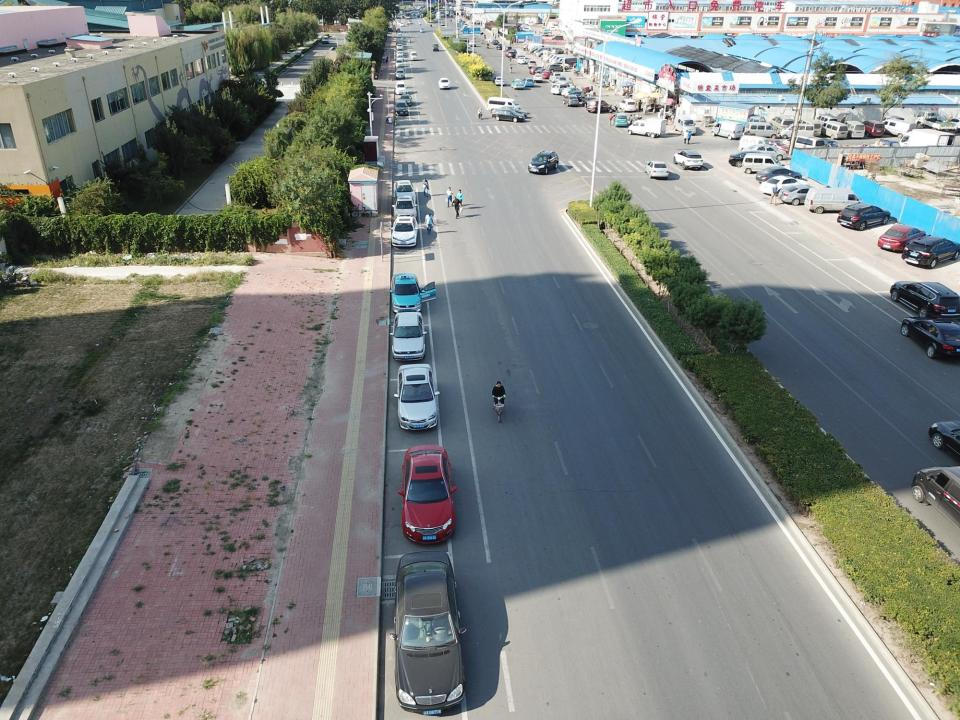car: (389, 550, 467, 716), (398, 444, 456, 544), (394, 364, 440, 430), (890, 281, 960, 319), (900, 316, 960, 358), (901, 234, 960, 268), (390, 272, 436, 314), (390, 312, 426, 360), (837, 202, 891, 231), (877, 224, 926, 252), (777, 185, 830, 205), (760, 176, 808, 197), (728, 150, 780, 168), (390, 216, 418, 246), (756, 168, 802, 184), (529, 150, 559, 174), (391, 195, 418, 221), (673, 150, 703, 169), (394, 180, 416, 204), (759, 138, 790, 154), (813, 139, 844, 153), (644, 160, 668, 178), (492, 109, 525, 122), (586, 100, 610, 112), (611, 112, 628, 127), (394, 100, 409, 116), (943, 117, 960, 131), (618, 99, 636, 112), (562, 95, 578, 106), (547, 62, 569, 70), (571, 90, 587, 101), (561, 87, 580, 96), (554, 75, 571, 85), (395, 81, 407, 95), (398, 94, 412, 106), (555, 81, 573, 90), (438, 78, 451, 90), (511, 78, 524, 90), (547, 64, 566, 72), (582, 97, 597, 107), (534, 47, 552, 55), (529, 66, 545, 74), (535, 50, 553, 57), (522, 77, 534, 87), (492, 76, 505, 85), (517, 56, 532, 63), (395, 68, 405, 78), (540, 70, 552, 78), (530, 48, 546, 54), (517, 24, 531, 30), (552, 47, 564, 54), (533, 74, 542, 82), (527, 61, 537, 68), (496, 44, 506, 50), (520, 27, 532, 32), (546, 26, 558, 31), (503, 44, 510, 52), (395, 60, 404, 66), (518, 26, 531, 30), (469, 40, 476, 47), (396, 56, 404, 62), (396, 51, 404, 57), (396, 48, 404, 54), (464, 46, 472, 52), (504, 46, 512, 52), (505, 51, 513, 57), (508, 52, 516, 58), (511, 22, 522, 26), (396, 44, 403, 50), (396, 42, 403, 48), (396, 38, 403, 44), (467, 50, 474, 56), (507, 49, 517, 53), (397, 39, 403, 45), (396, 36, 402, 42), (397, 33, 403, 39), (526, 22, 535, 26), (462, 37, 469, 42), (488, 37, 496, 41), (491, 40, 499, 44), (419, 27, 425, 32), (490, 38, 496, 43), (476, 30, 483, 34), (399, 22, 405, 26), (467, 24, 473, 28), (407, 20, 412, 24), (397, 22, 402, 26), (461, 21, 466, 25), (460, 27, 465, 31), (397, 18, 401, 22), (440, 22, 444, 26), (459, 19, 463, 23), (464, 24, 468, 27)
truck: (898, 129, 956, 156), (715, 102, 768, 131), (838, 139, 902, 160), (914, 110, 957, 132), (542, 29, 549, 36)
van: (911, 466, 960, 530), (804, 188, 867, 213), (782, 134, 826, 154), (741, 153, 782, 174), (627, 117, 667, 138), (738, 135, 777, 155), (881, 119, 916, 138), (711, 121, 743, 140), (487, 96, 522, 113), (744, 121, 777, 139), (779, 124, 815, 139), (819, 121, 848, 139), (796, 118, 821, 137), (673, 115, 696, 135), (859, 120, 885, 137), (770, 115, 794, 133), (842, 121, 865, 138), (880, 115, 905, 130), (834, 113, 858, 127), (815, 115, 838, 128), (550, 83, 572, 95), (573, 47, 591, 57), (549, 54, 567, 63), (556, 57, 575, 65), (559, 58, 577, 66), (528, 43, 545, 51), (546, 54, 564, 61), (552, 56, 570, 63), (522, 43, 538, 49), (550, 72, 560, 81), (550, 35, 564, 41), (410, 51, 418, 60), (432, 43, 439, 51), (322, 36, 329, 44), (516, 52, 524, 58)
